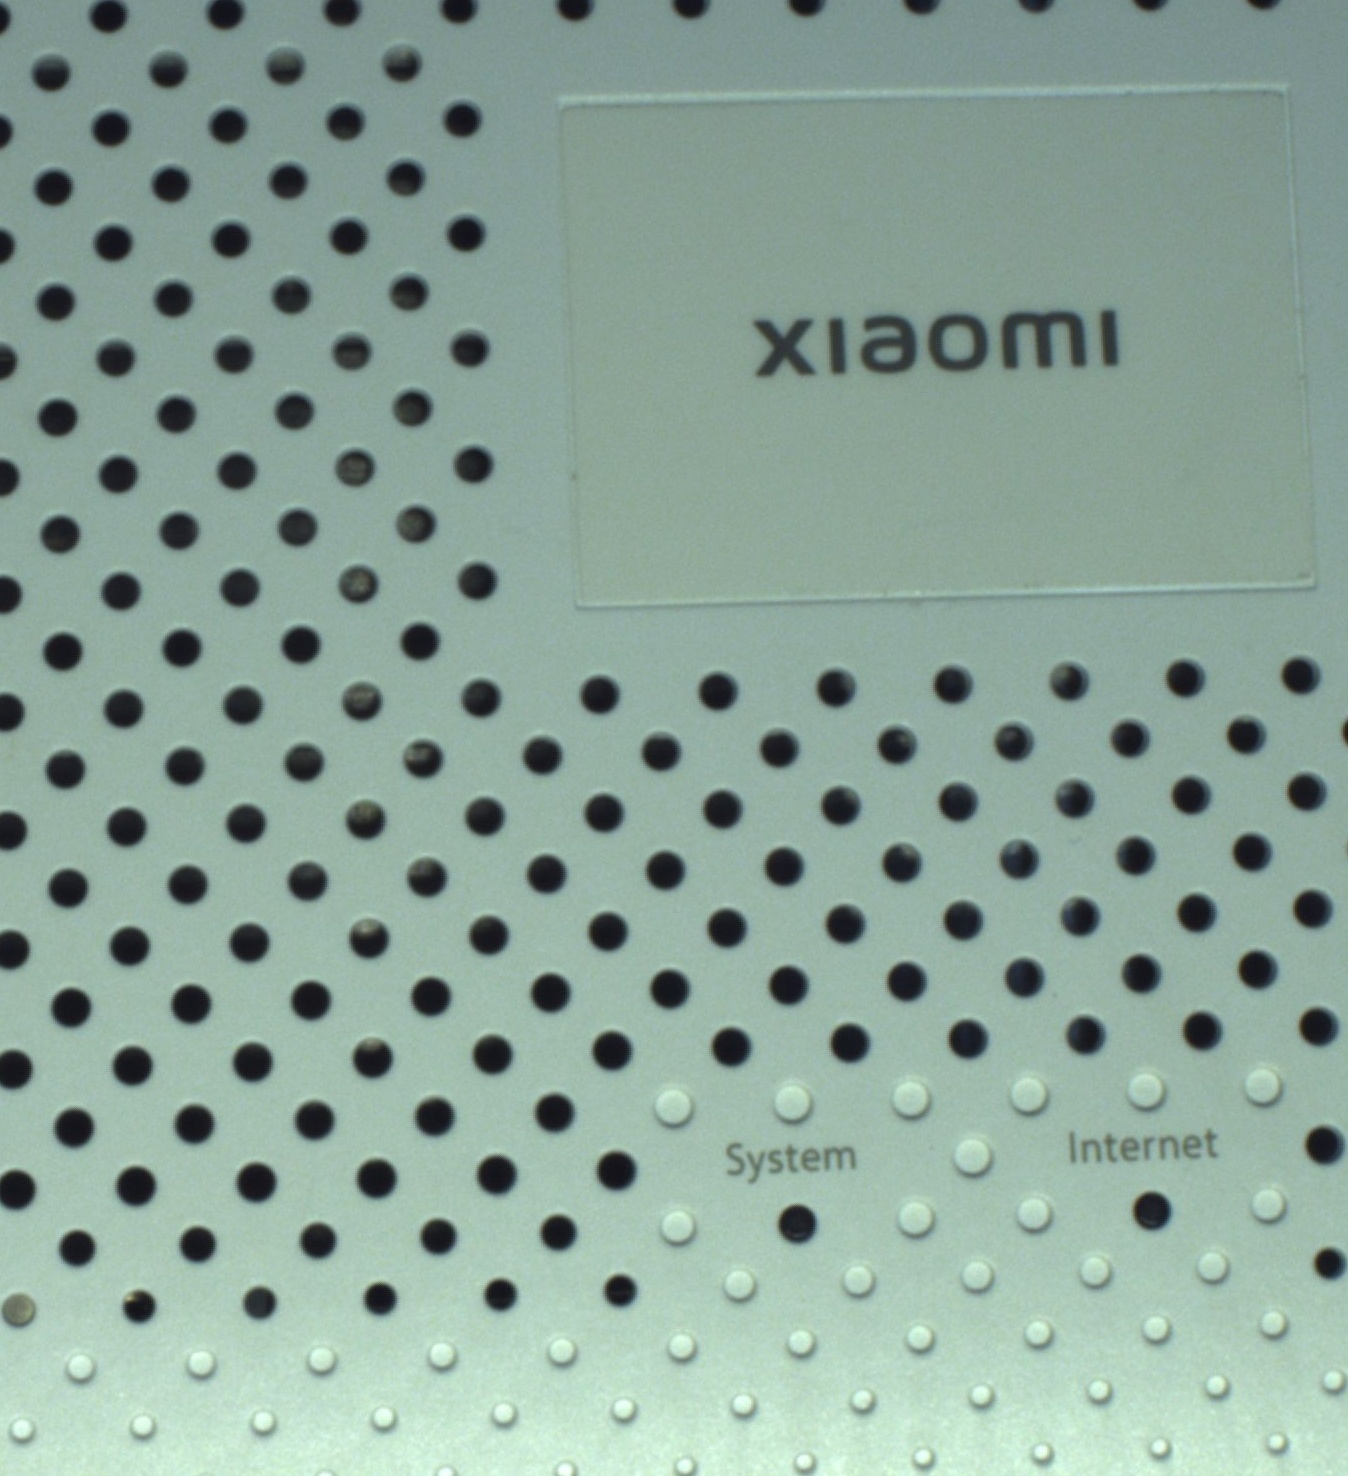MAB_OldUnicom: (745, 300, 1123, 393)
